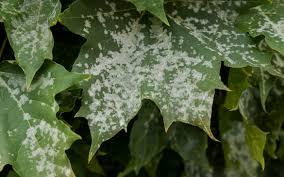powdery_mildew: (4, 3, 273, 165)
